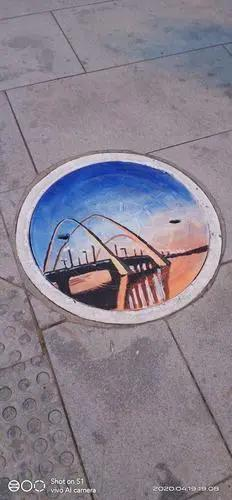wellcover: (17, 144, 231, 328)
